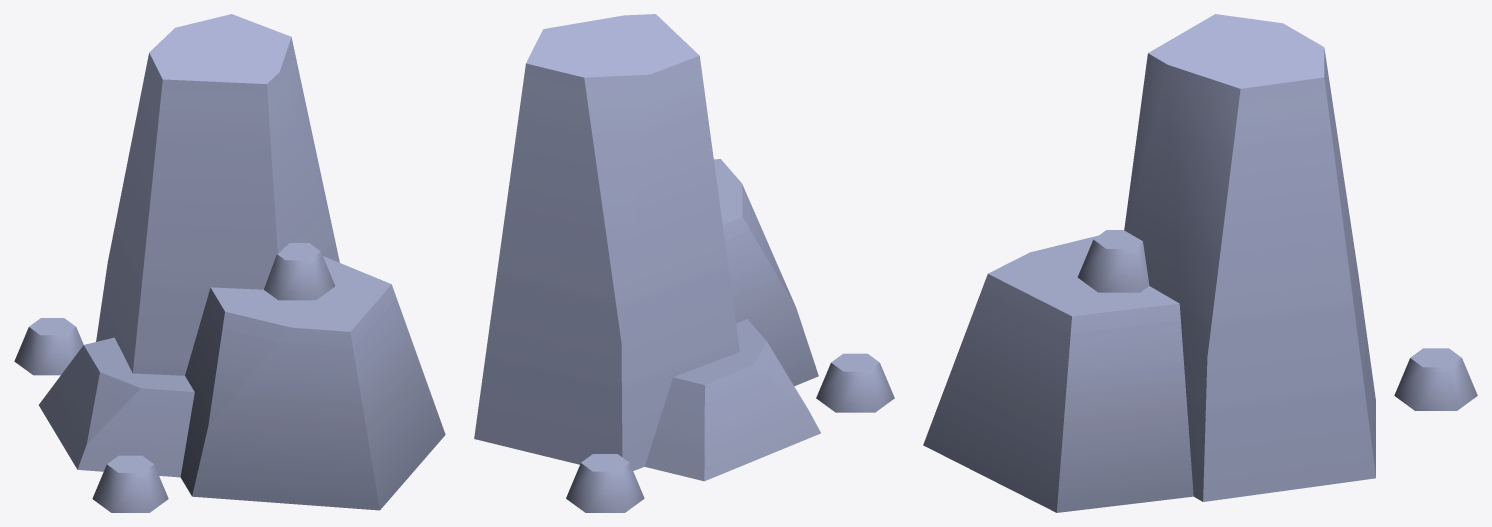
Rendered from rock-small.glb.
3 renders of one model, left to right at view 1: azimuth 30°, elevation 25°; view 2: azimuth 150°, elevation 25°; view 3: azimuth 270°, elevation 25°, orthographic. The views are drawn at different scales.
Parts seen in each view (by area): view 1: rock-small; view 2: rock-small; view 3: rock-small.
Part boxes in pixels (x1,y1,x2,y2): rock-small: (14,14,445,512); rock-small: (474,14,894,512); rock-small: (923,14,1477,512).
Bounding box in the file's own units: 0.9984 × 1.02 × 1.33.
1 material, 1 textured.
